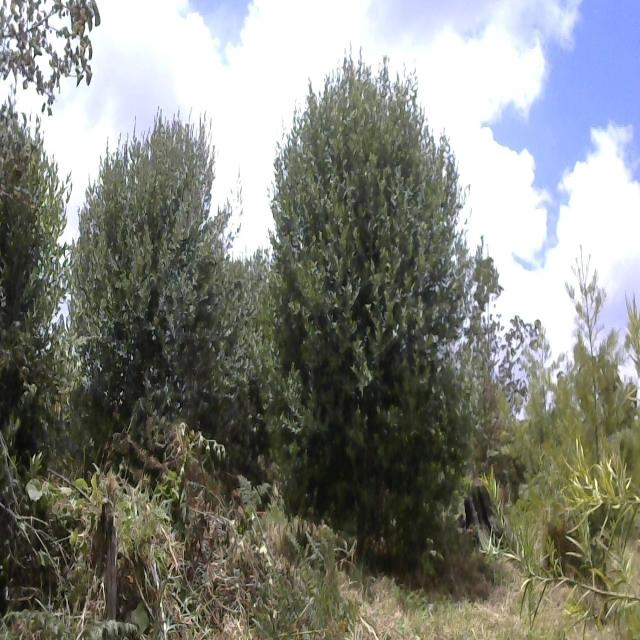Olea europea -africana-: (268, 57, 476, 541), (79, 132, 243, 457), (0, 111, 75, 382)
Podocarpus falcatus: (549, 224, 640, 627)
